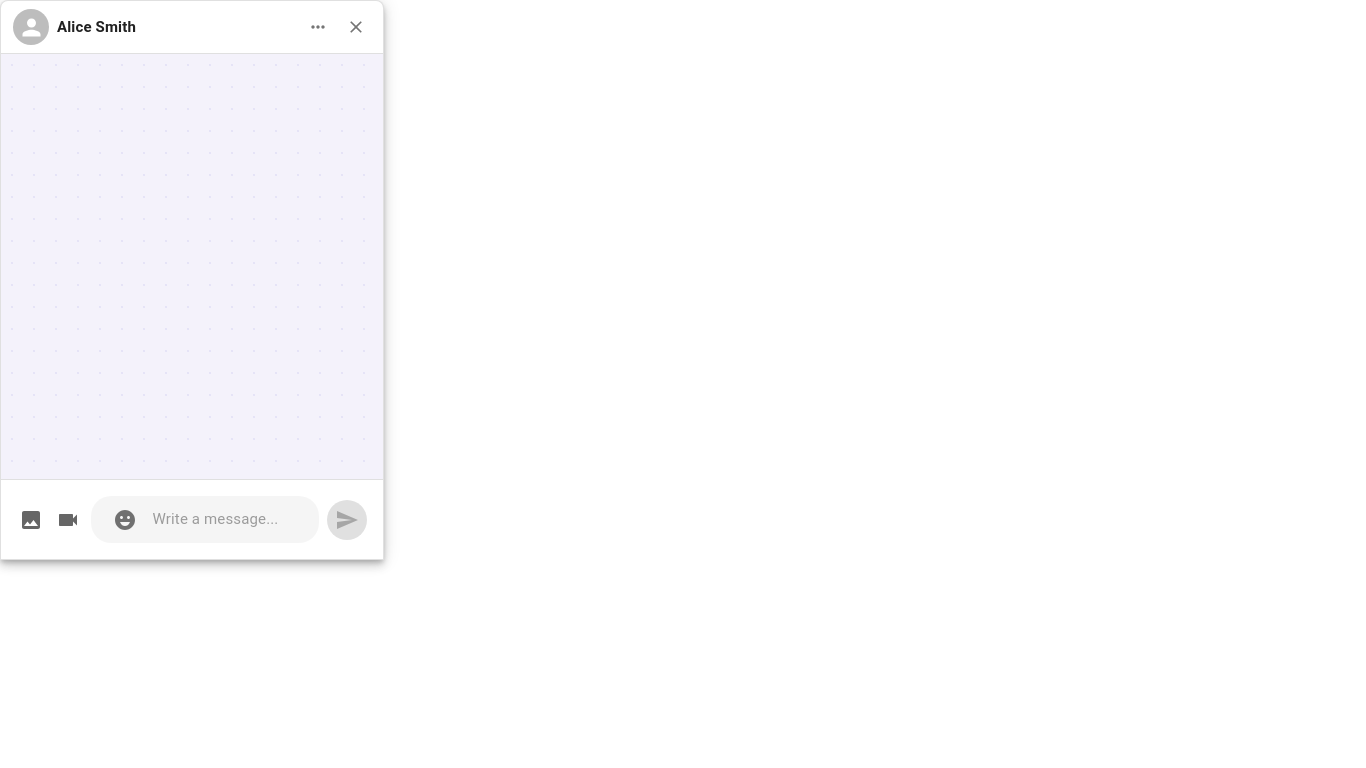
Scenario: DockedChatWindow — block menu item › clicking "Block user" opens the confirmation dialog
Click the button named "more options".
click(318, 27)  # box 303,12 -> 333,42
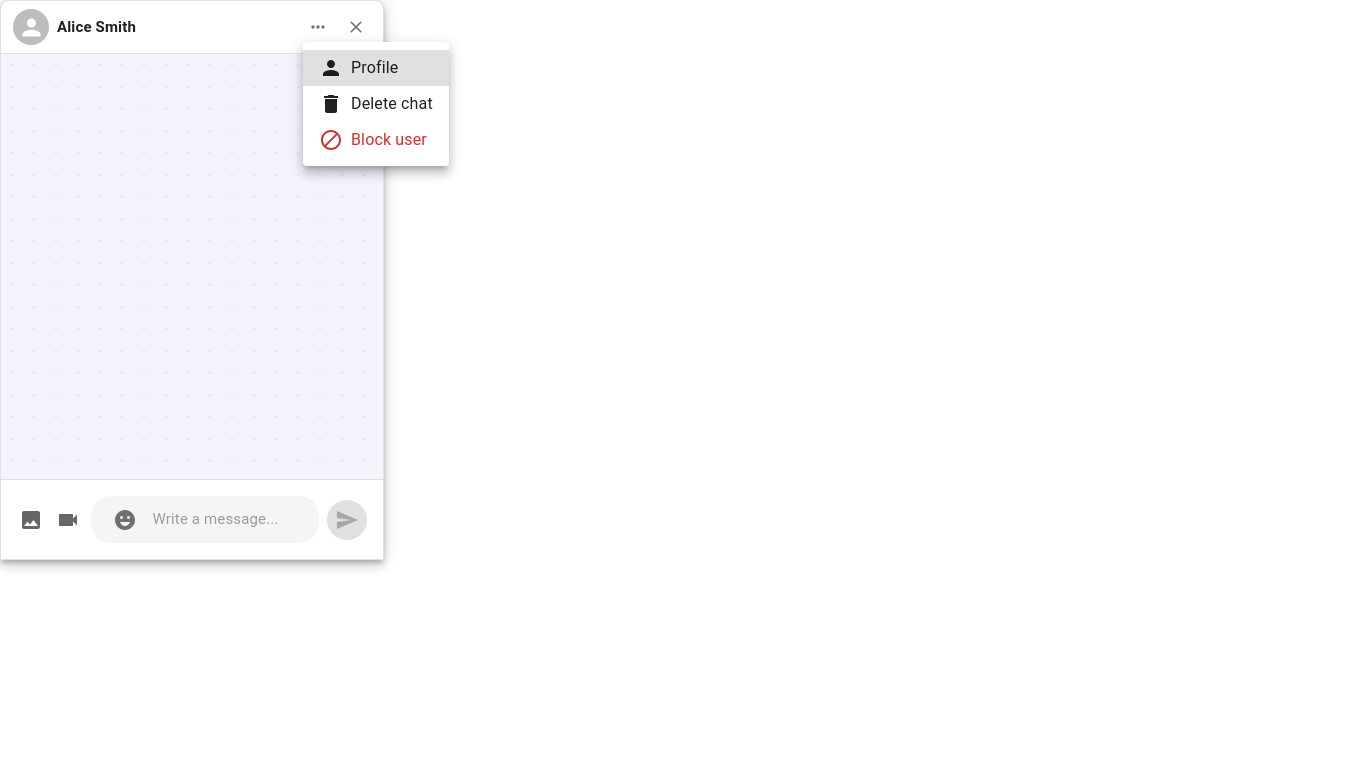
Click the menu item "Block user".
click(373, 140)  # box 319,128 -> 427,152
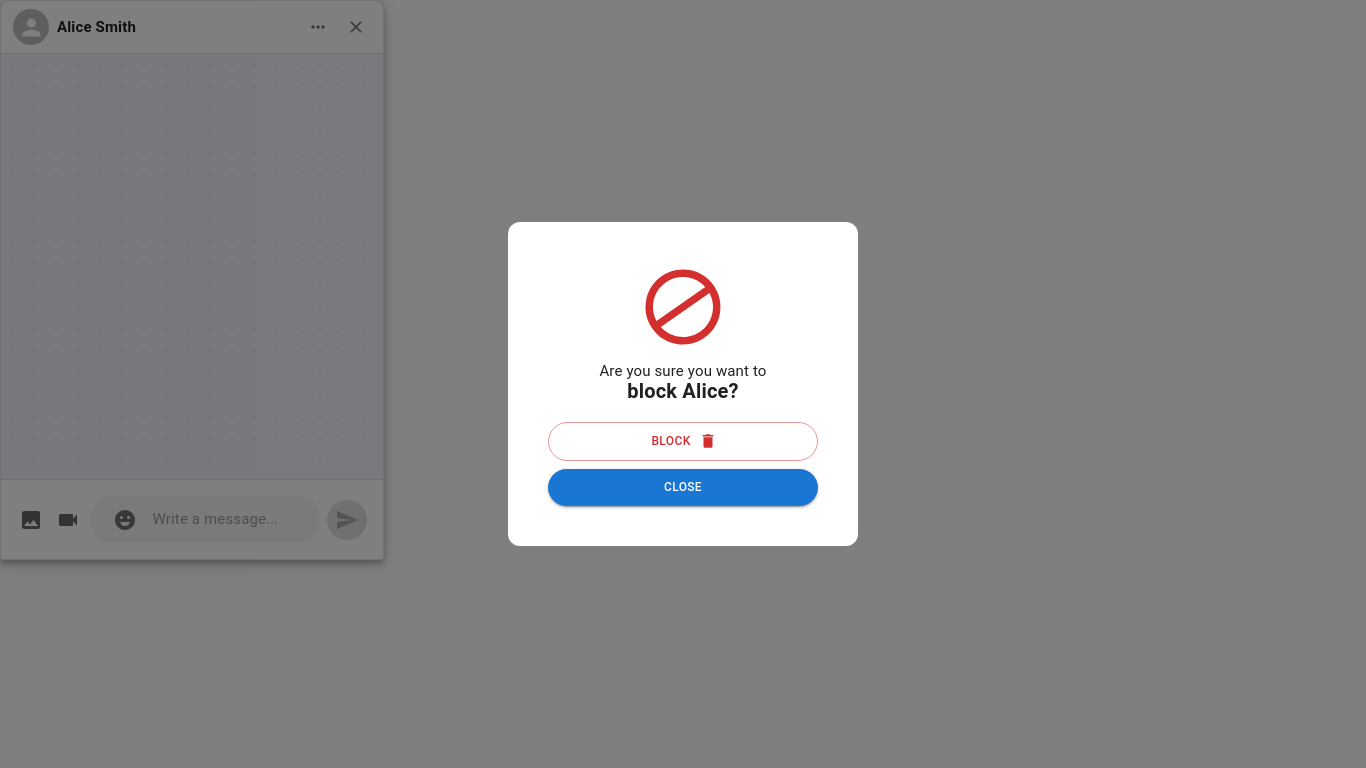
Check: the text "Are you sure you want to" is shown, box 599,362 -> 766,380
Check: the button "Block" is shown, box 548,422 -> 818,461
